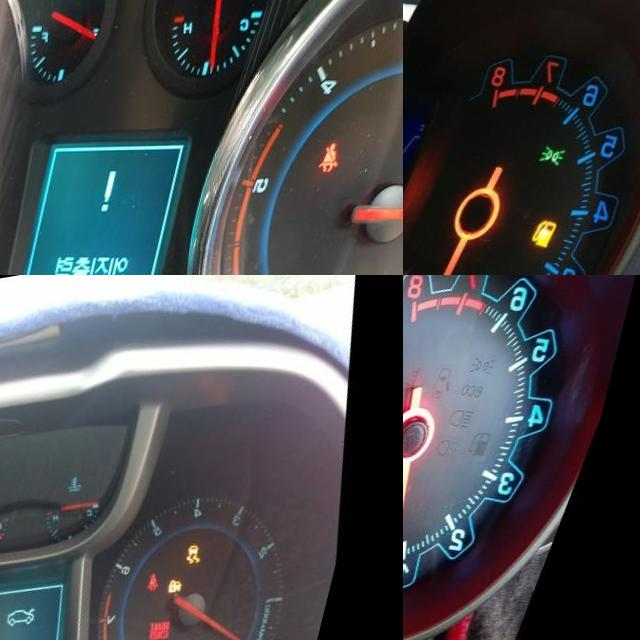Low fuel level: (551, 216, 583, 248)
SideLamp: (556, 142, 587, 166)
